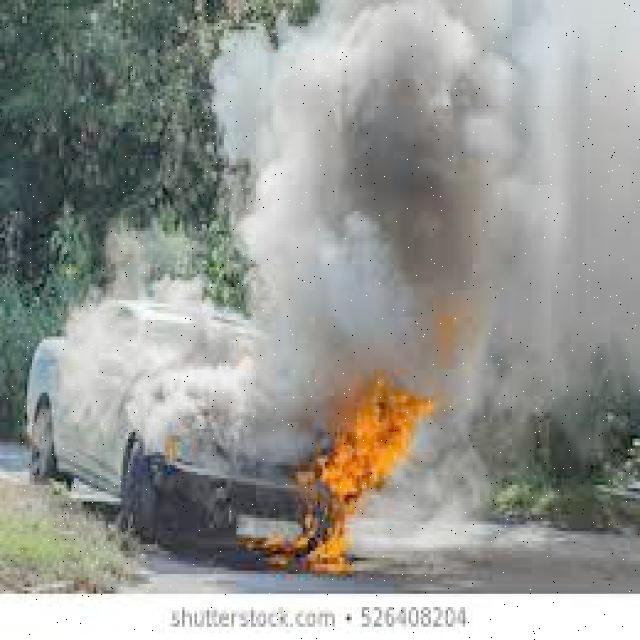fire: (306, 373, 434, 582)
smoke: (210, 14, 640, 392)
